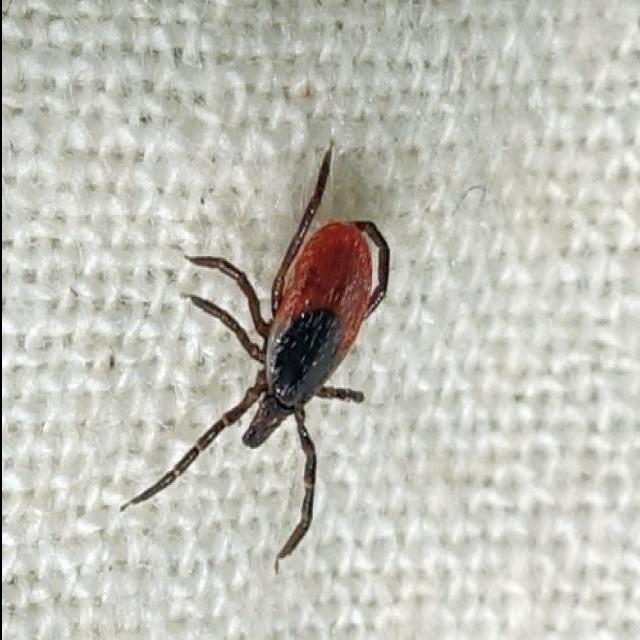Ixodes Ricinus-F: (127, 157, 389, 556)
